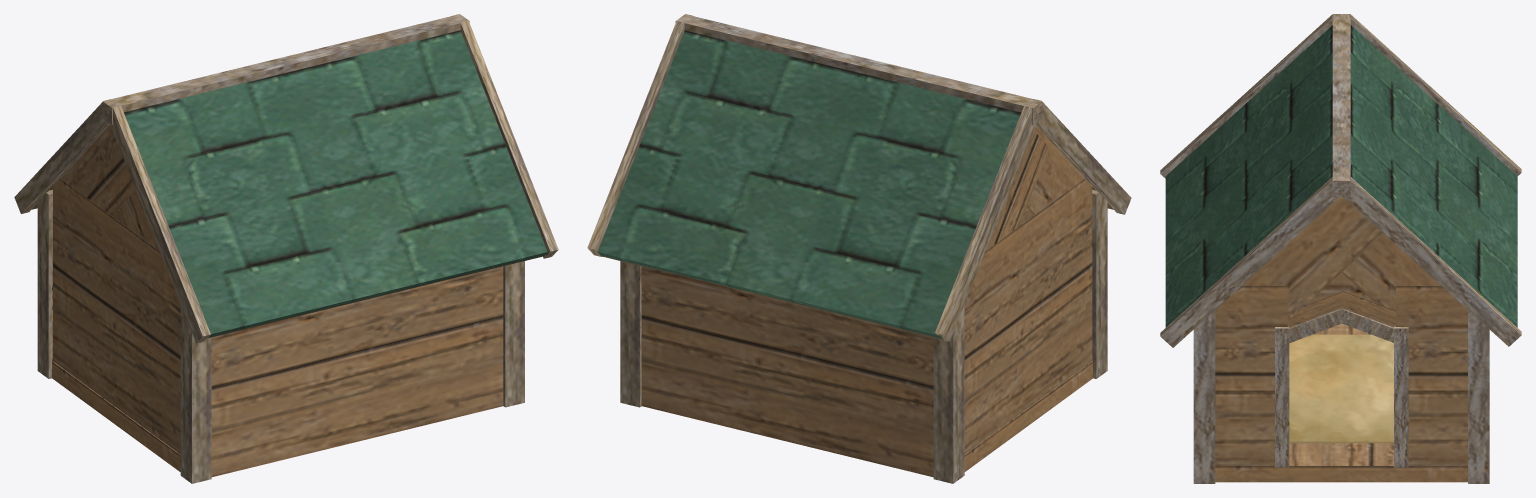
File: dog_house.glb
3 renders of one model, left to right at view 1: azimuth 30°, elevation 25°; view 2: azimuth 150°, elevation 25°; view 3: azimuth 270°, elevation 25°, orthographic. The views are drawn at different scales.
Visible parts, largest first — view 1: Object_4, Object_2, Object_3; view 2: Object_4, Object_2, Object_3; view 3: Object_4, Object_2, Object_3, Object_6.
Boxes of the visible parts, left/top/right/bottom form: Object_4: left=124, top=30, right=547, bottom=337; Object_2: left=52, top=125, right=503, bottom=476; Object_3: left=14, top=14, right=558, bottom=483; Object_4: left=597, top=30, right=1021, bottom=338; Object_2: left=641, top=125, right=1092, bottom=477; Object_3: left=587, top=14, right=1131, bottom=483; Object_4: left=1165, top=25, right=1517, bottom=327; Object_2: left=1215, top=197, right=1467, bottom=482; Object_3: left=1160, top=14, right=1521, bottom=483; Object_6: left=1289, top=334, right=1393, bottom=443.
Size of the model in its own units: 21.9 by 19.02 by 20.01.
Materials: 5 (5 with a texture image).
